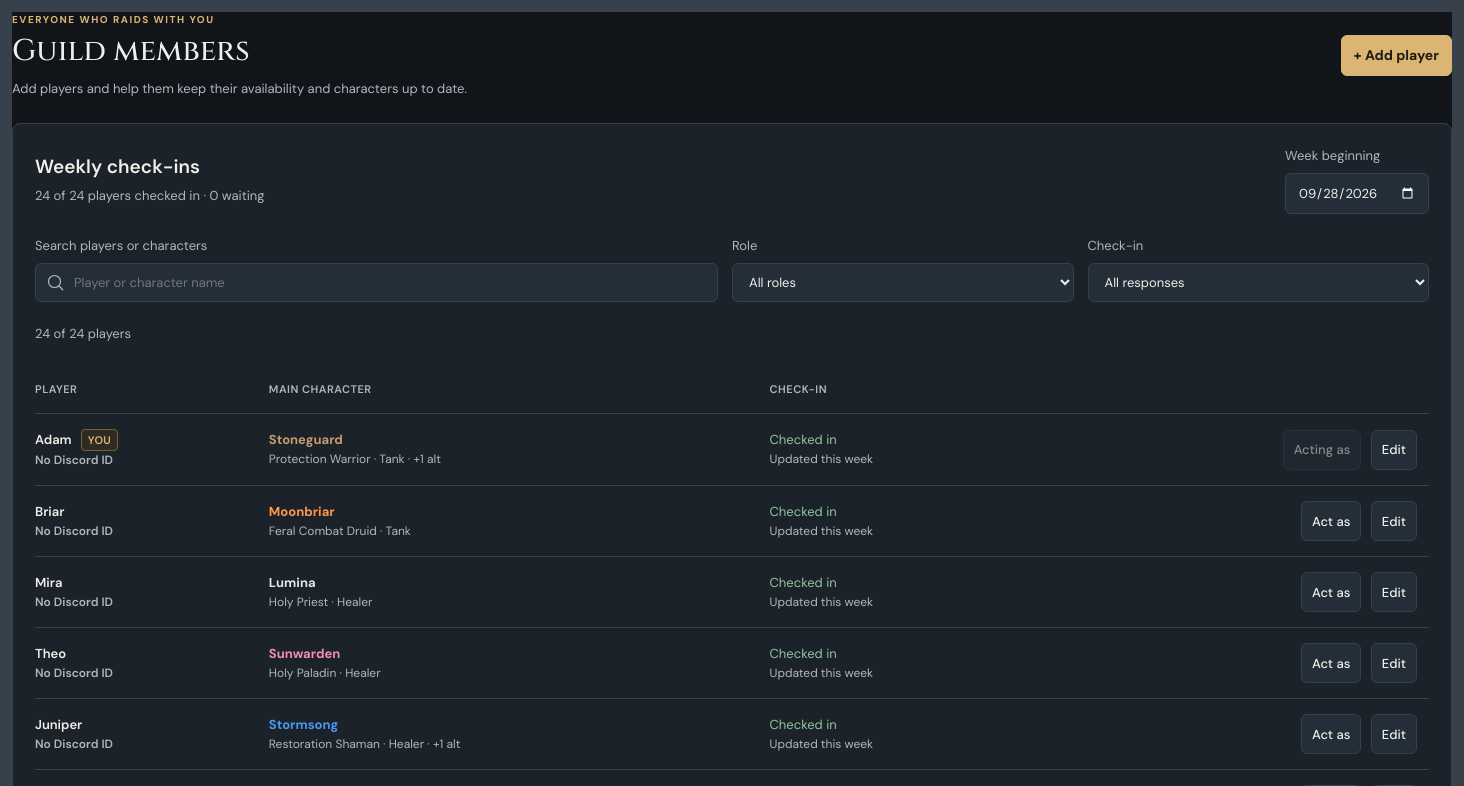
Test: Guild members › "Act as" switches the current member
What coordinates should you click on to do the following:
click the button "Act as" in the row of "Moonbriar"
I would click on:
 (1331, 522)
Its box is left=1301, top=502, right=1361, bottom=542.
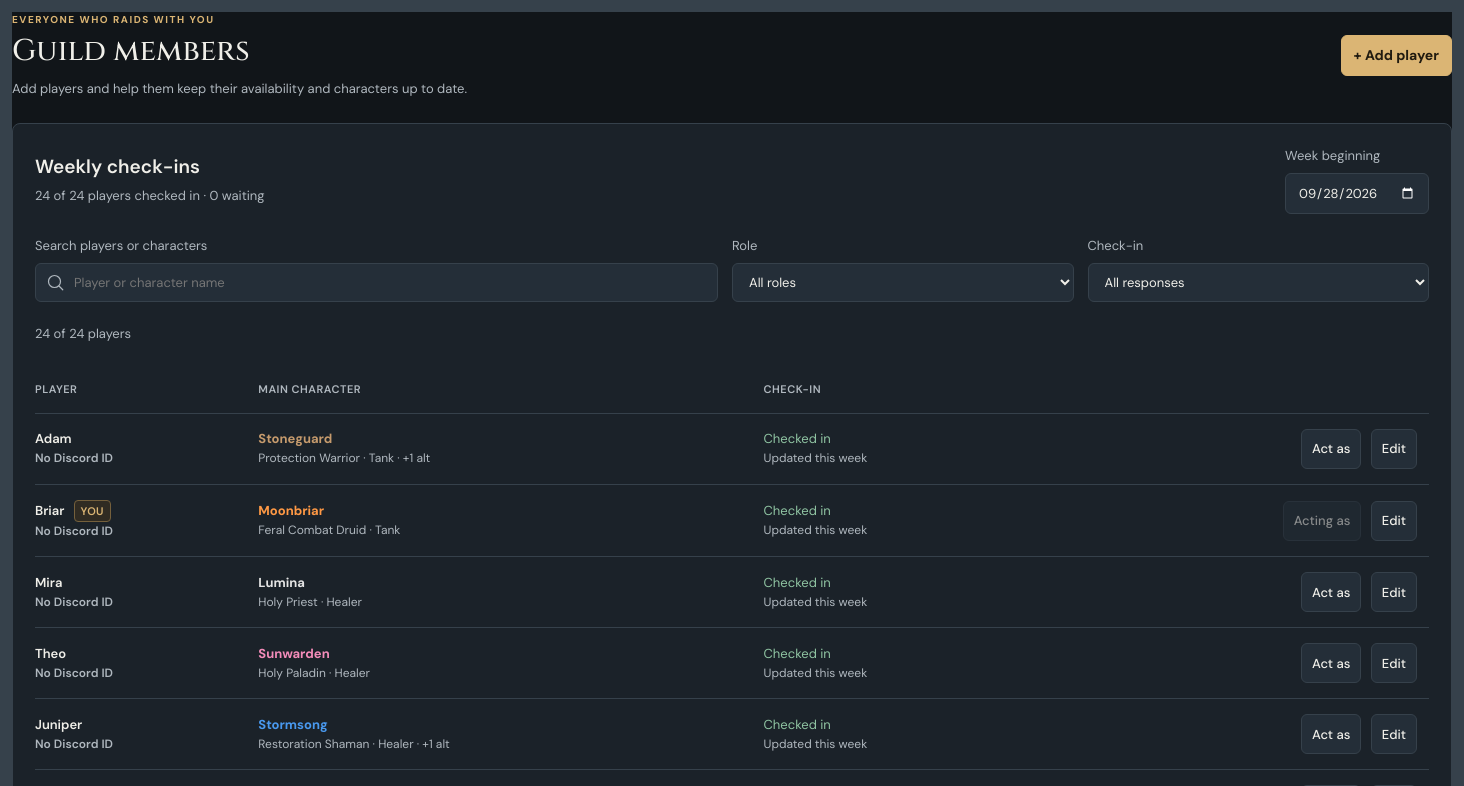
Expected: the button "Acting as" is disabled, left=1283, top=501, right=1361, bottom=541
